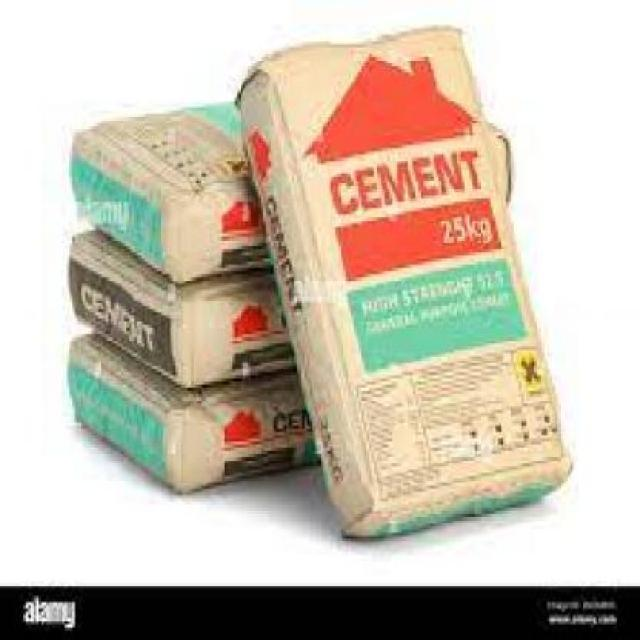gunny_bag: (265, 32, 566, 509), (66, 235, 182, 383), (71, 347, 181, 486), (75, 139, 178, 284)
